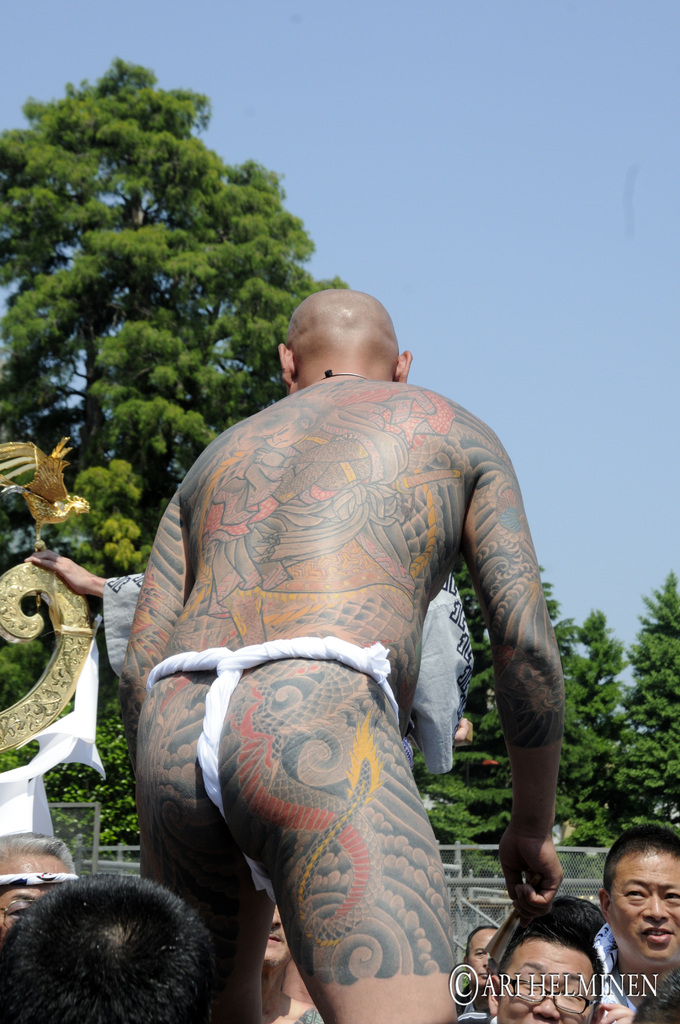Tree: (0, 50, 680, 850)
